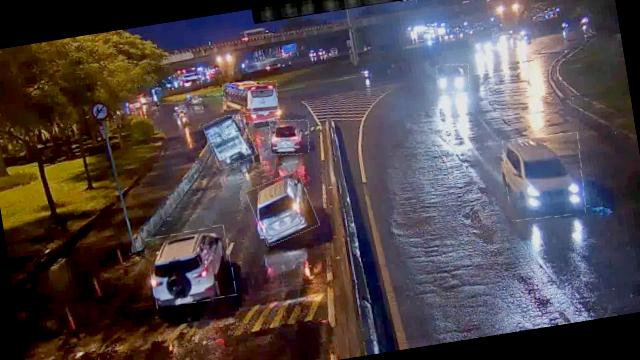Bus: (220, 77, 281, 119)
Car: (500, 130, 589, 224), (146, 225, 237, 308), (246, 172, 318, 246), (268, 115, 312, 157), (434, 61, 470, 95)
Truck: (204, 111, 256, 168)
